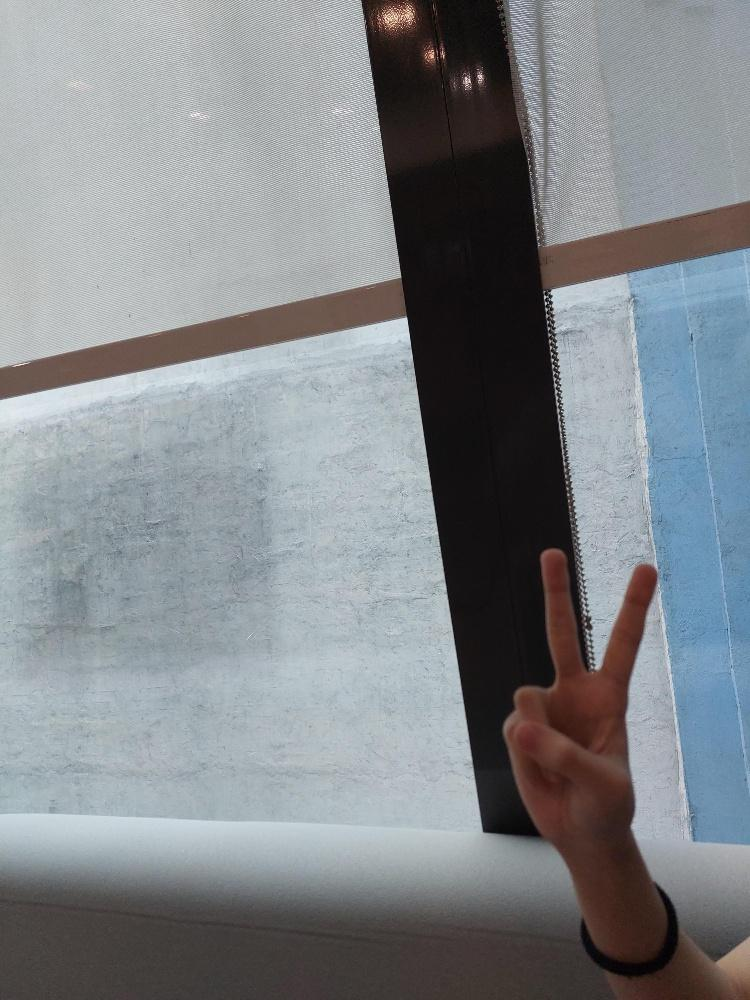v: (502, 547, 659, 825)
